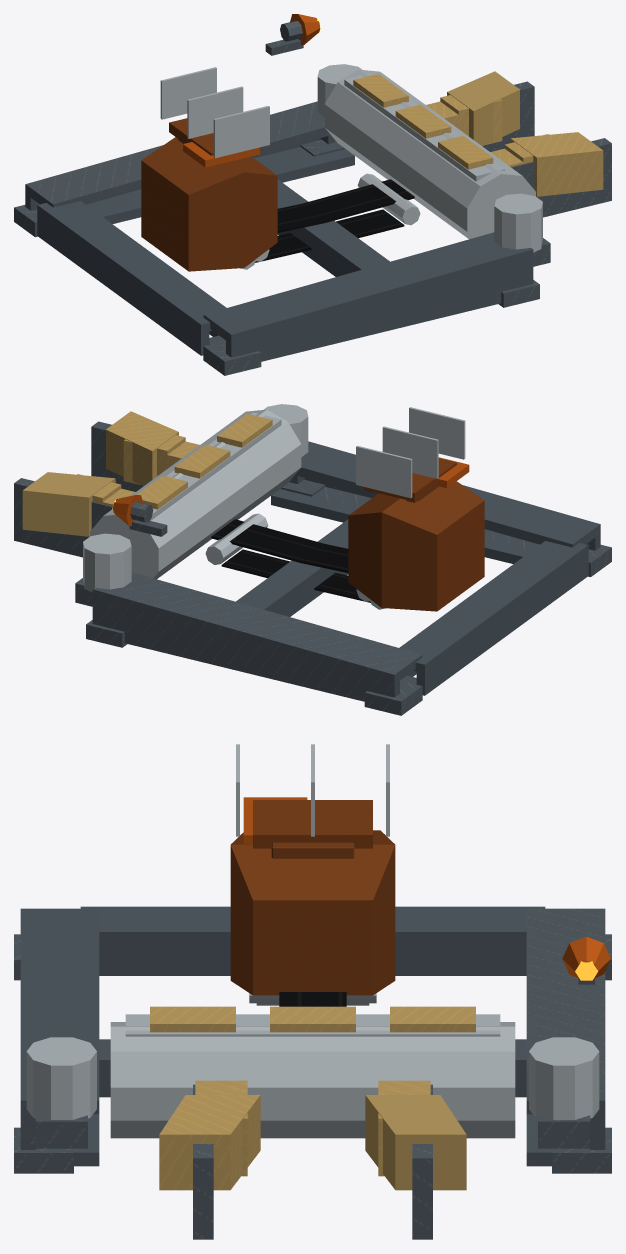
The model's file is extractor_lod1.glb.
3 views of the same model, one above another, from view 1: azimuth 30°, elevation 25°; view 2: azimuth 150°, elevation 25°; view 3: azimuth 270°, elevation 25° (orthographic). The views are drawn at different scales.
Visible parts, largest first — view 1: LOD1_extractor, LOD1_head, LOD1_belt, LOD1_lamp; view 2: LOD1_extractor, LOD1_head, LOD1_belt, LOD1_lamp; view 3: LOD1_extractor, LOD1_head, LOD1_belt, LOD1_lamp.
Part boxes in pixels (x1=…): LOD1_extractor: x1=14, y1=67, x2=539, y2=375; LOD1_head: x1=317, y1=64, x2=611, y2=266; LOD1_belt: x1=240, y1=173, x2=420, y2=269; LOD1_lamp: x1=265, y1=14, x2=319, y2=55; LOD1_extractor: x1=86, y1=407, x2=611, y2=715; LOD1_head: x1=14, y1=404, x2=308, y2=606; LOD1_belt: x1=205, y1=513, x2=385, y2=609; LOD1_lamp: x1=113, y1=495, x2=167, y2=536; LOD1_extractor: x1=14, y1=744, x2=611, y2=1173; LOD1_head: x1=26, y1=1006, x2=599, y2=1239; LOD1_belt: x1=249, y1=992, x2=376, y2=1006; LOD1_lamp: x1=562, y1=936, x2=610, y2=984.
Bounding box in the file's own units: 1.97 × 0.76 × 1.6.
Materials: 2 (2 with a texture image).
